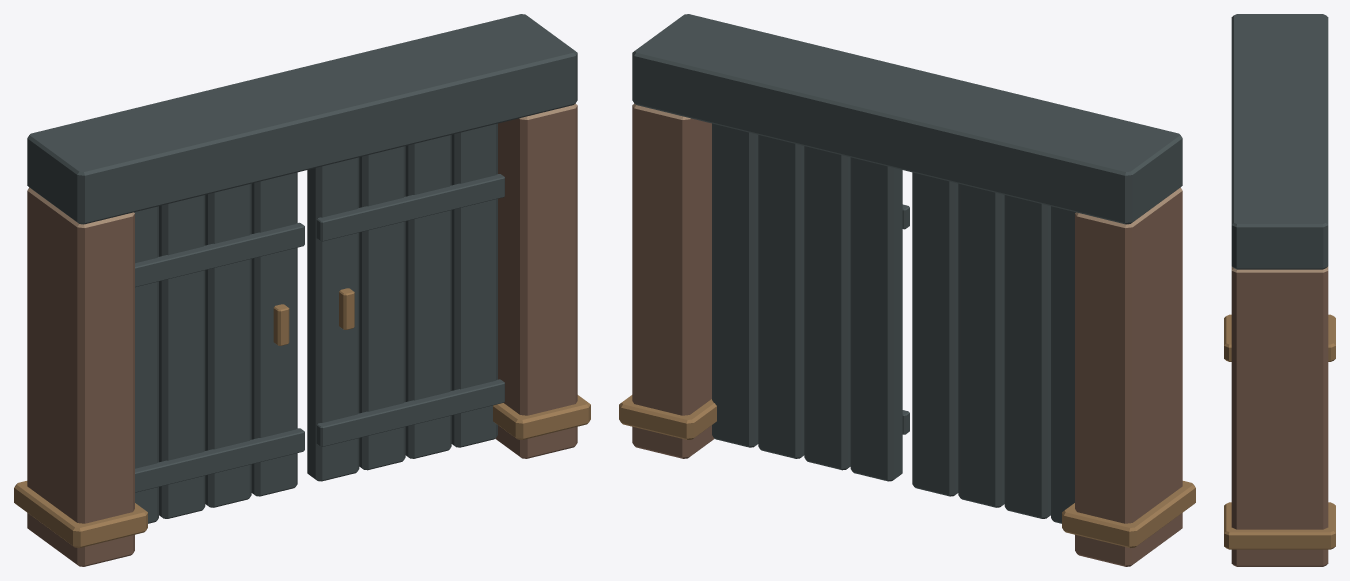
The model's file is doorway.glb.
The picture shows the model from 3 angles, left to right: view 1: azimuth 30°, elevation 25°; view 2: azimuth 150°, elevation 25°; view 3: azimuth 270°, elevation 25°; orthographic projection. The views are drawn at different scales.
Visible parts, largest first — view 1: doorway__body, doorway__leaf-right, doorway__leaf-left; view 2: doorway__body, doorway__leaf-right, doorway__leaf-left; view 3: doorway__body.
Part boxes in pixels (x1,y1,x2,y2): doorway__body: (14, 14, 590, 566); doorway__leaf-right: (307, 123, 504, 481); doorway__leaf-left: (134, 172, 304, 523); doorway__body: (619, 14, 1195, 566); doorway__leaf-right: (712, 123, 909, 481); doorway__leaf-left: (912, 172, 1075, 523); doorway__body: (1224, 14, 1335, 566).
Bounding box in the file's own units: 2.69 × 1.96 × 0.58.
